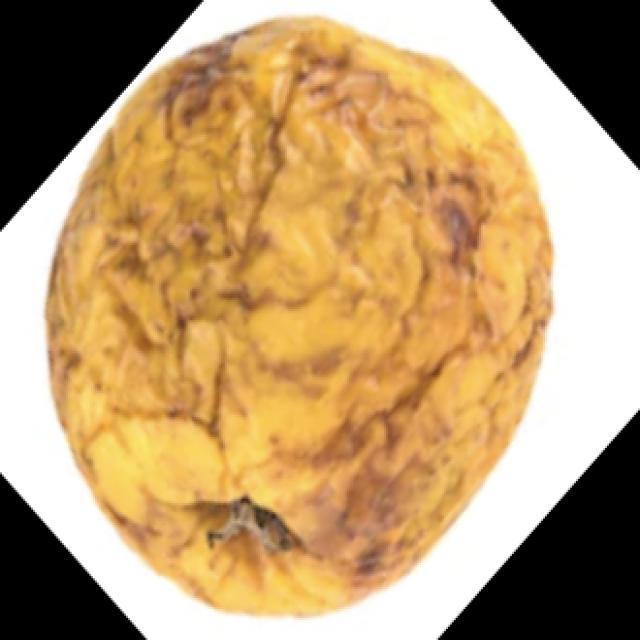Rotten: (60, 43, 560, 607)
